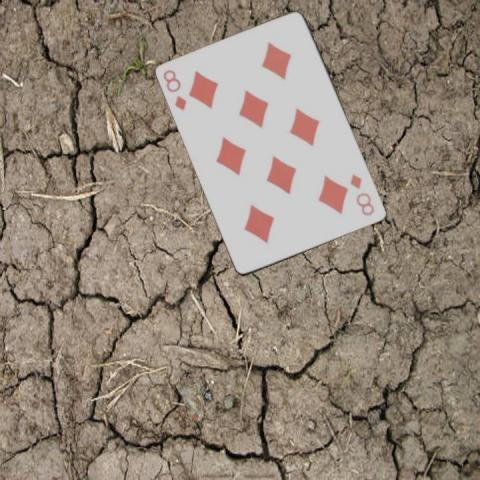8d: (347, 171, 377, 217), (160, 66, 189, 112)
